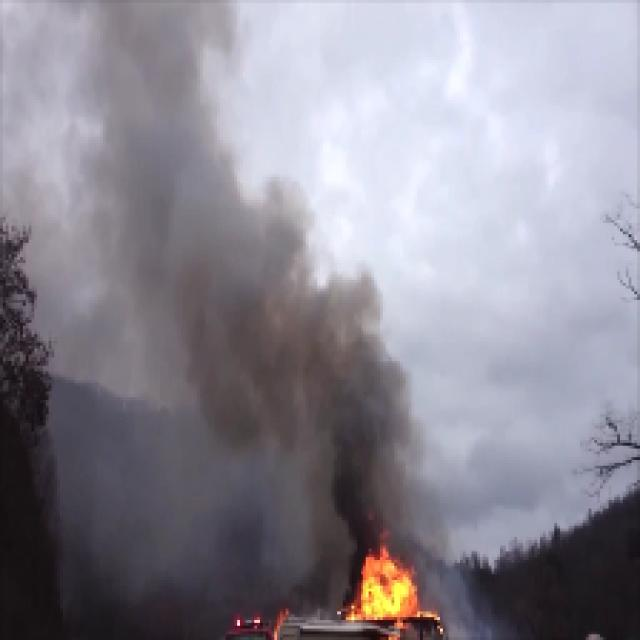fire: (360, 547, 413, 622)
smoke: (201, 202, 302, 428), (312, 337, 398, 537)
